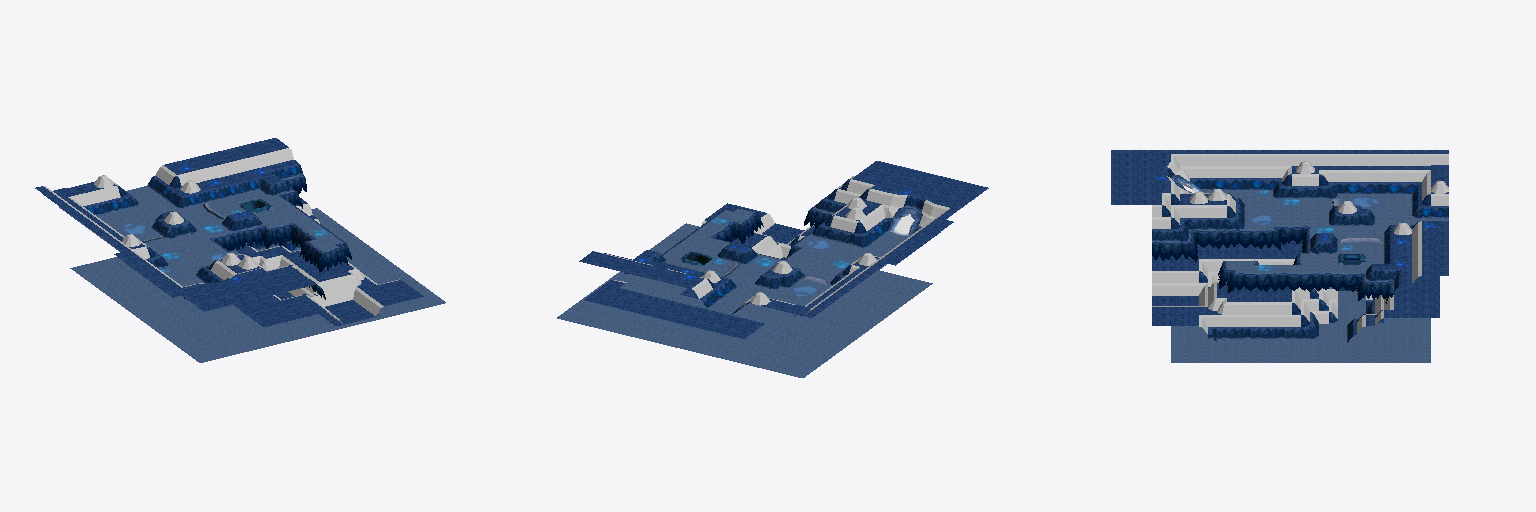
3 views of the same model, side by side, from view 1: azimuth 30°, elevation 25°; view 2: azimuth 150°, elevation 25°; view 3: azimuth 270°, elevation 25° (orthographic).
Visible parts, largest first — view 1: polygon1, polygon0, polygon8, polygon15, polygon10, polygon9, polygon13; view 2: polygon1, polygon0, polygon8, polygon9, polygon15, polygon10, polygon3, polygon12; view 3: polygon8, polygon1, polygon0, polygon15, polygon9, polygon10, polygon2, polygon3, polygon14, polygon12.
Boxes of the visible parts, <box> form: polygon1: <box>59,186,445,362</box>; polygon0: <box>35,138,423,326</box>; polygon8: <box>43,148,399,323</box>; polygon15: <box>209,175,345,299</box>; polygon10: <box>83,163,303,282</box>; polygon9: <box>129,171,318,298</box>; polygon13: <box>160,209,329,272</box>; polygon1: <box>557,207,932,377</box>; polygon0: <box>579,161,988,338</box>; polygon8: <box>594,176,949,314</box>; polygon9: <box>633,194,925,304</box>; polygon15: <box>625,202,832,273</box>; polygon10: <box>604,218,887,316</box>; polygon3: <box>717,199,869,288</box>; polygon12: <box>789,238,833,297</box>; polygon8: <box>1152,154,1448,333</box>; polygon1: <box>1171,189,1448,362</box>; polygon0: <box>1111,150,1448,326</box>; polygon15: <box>1152,226,1393,303</box>; polygon9: <box>1152,167,1421,342</box>; polygon10: <box>1190,178,1448,291</box>; polygon2: <box>1162,174,1430,326</box>; polygon3: <box>1180,187,1393,338</box>; polygon14: <box>1190,230,1365,300</box>; polygon12: <box>1247,194,1382,226</box>.
Bounding box in the file's own units: 8.5 × 2.41 × 9.12.
Materials: 19 (18 with a texture image).